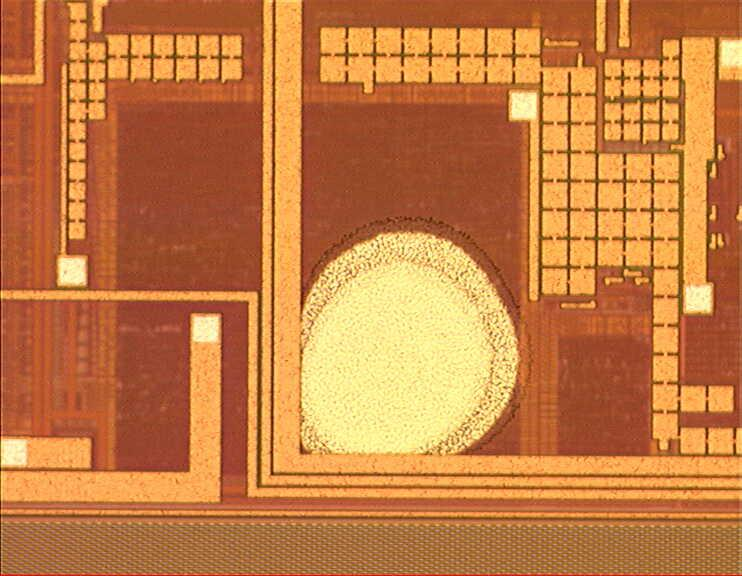BLOCK ETCH: (272, 213, 536, 486)
